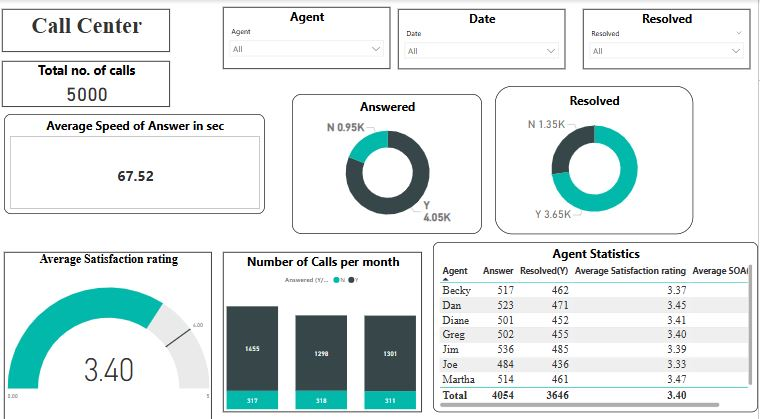

The dashboard page shown, as its layout file describes it:
{"tool":"powerbi","page":{"name":"Page 1","canvas":[1280,720],"ordinal":0},"visuals":[{"type":"slicer","title":"Agent","fields":{"Values":["Sheet1.Agent"]},"box":[381.3,11.8,280.5,104.1],"z":0},{"type":"slicer","title":"Resolved","fields":{"Values":["Sheet1.Resolved"]},"box":[986,15.1,280.5,100.8],"z":1000},{"type":"slicer","title":"Date","fields":{"Values":["Sheet1.Date"]},"box":[675.3,15.1,280.5,100.8],"z":2000},{"type":"gauge","title":"Average Satisfaction rating ","fields":{"Y":["Avg(Sheet1.Satisfaction rating)"],"MaxValue":["Max(Sheet1.Satisfaction rating)"]},"box":[13.4,423.3,349.4,285.6],"z":3000},{"type":"donutChart","title":" Answered ","fields":{"Category":["Sheet1.Answered (Y/N)"],"Y":["CountNonNull(Sheet1.Answered (Y/N))"]},"box":[497.2,157.9,319.2,235.2],"z":4000},{"type":"donutChart","title":" Resolved","fields":{"Category":["Sheet1.Resolved"],"Y":["CountNonNull(Sheet1.Resolved)"]},"box":[838.2,144.5,332.6,248.6],"z":5000},{"type":"cardVisual","title":"Average Speed of Answer in sec","fields":{"Data":["Avg(Sheet1.Speed of answer in seconds)"]},"box":[13.4,191.5,438.4,168],"z":6000},{"type":"columnChart","title":"Number of Calls per month","fields":{"Category":["Sheet1.Date.Variation.Date Hierarchy.Month"],"Y":["CountNonNull(Sheet1.Answered (Y/N))"],"Series":["Sheet1.Answered (Y/N)"]},"box":[381.3,423.3,334.3,268.8],"z":7000},{"type":"tableEx","title":"Agent Statistics","fields":{"Values":["Sheet1.Agent","Sheet1.Answer","Sheet1.Resolved(Y)","Avg(Sheet1.Satisfaction rating)","Avg(Sheet1.Speed of answer in seconds)"]},"box":[734.1,406.5,545.9,285.6],"z":8000},{"type":"textbox","box":[10.1,15.1,282.2,72.2],"z":9000},{"type":"card","title":"Total no. of calls","fields":{"Values":["CountNonNull(Sheet1.Answered (Y/N))"]},"box":[10.1,102.5,282.2,77.3],"z":9001}]}

Visuals, with their boxes in screenshot pixels (x1, y1, x2, y2), scaled from the page's 1280x720 canvas onto the 760x419 screenshot:
"Agent" slicer: bbox=(226, 7, 393, 67)
"Resolved" slicer: bbox=(585, 9, 752, 67)
"Date" slicer: bbox=(401, 9, 568, 67)
"Average Satisfaction rating " gauge: bbox=(8, 246, 215, 413)
" Answered " donutChart: bbox=(295, 92, 485, 229)
" Resolved" donutChart: bbox=(498, 84, 695, 229)
"Average Speed of Answer in sec" cardVisual: bbox=(8, 111, 268, 209)
"Number of Calls per month" columnChart: bbox=(226, 246, 425, 403)
"Agent Statistics" tableEx: bbox=(436, 237, 759, 403)
textbox: bbox=(6, 9, 174, 51)
"Total no. of calls" card: bbox=(6, 60, 174, 105)
